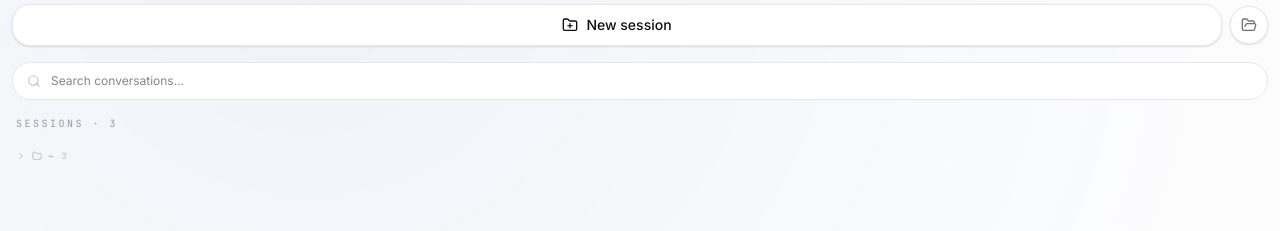
Test: ConversationSearch › filters sessions by title
The width and height of the screenshot is (1280, 231).
Type "React" into the field with placeholder "Search conversations...".
click(652, 81); type("React")  # box 51,73 -> 1253,89
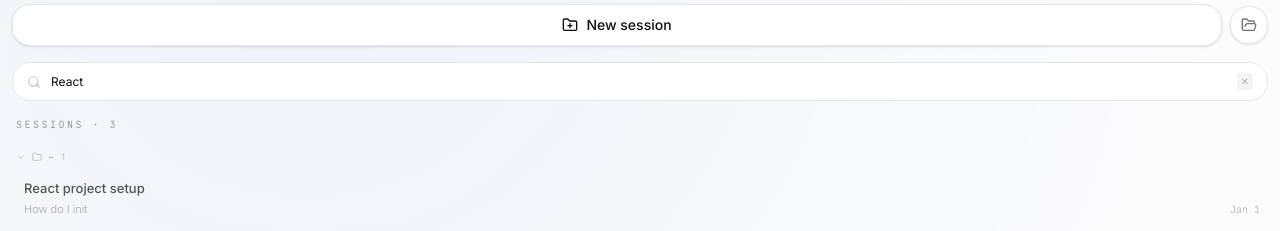
expect the text "React project setup" is shown: met, box 24,180 -> 145,197
